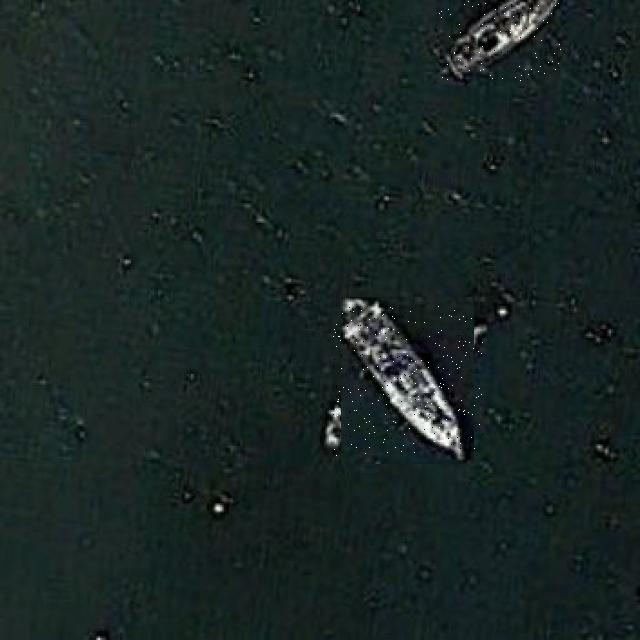boat: (332, 306, 483, 456), (434, 0, 562, 81)
